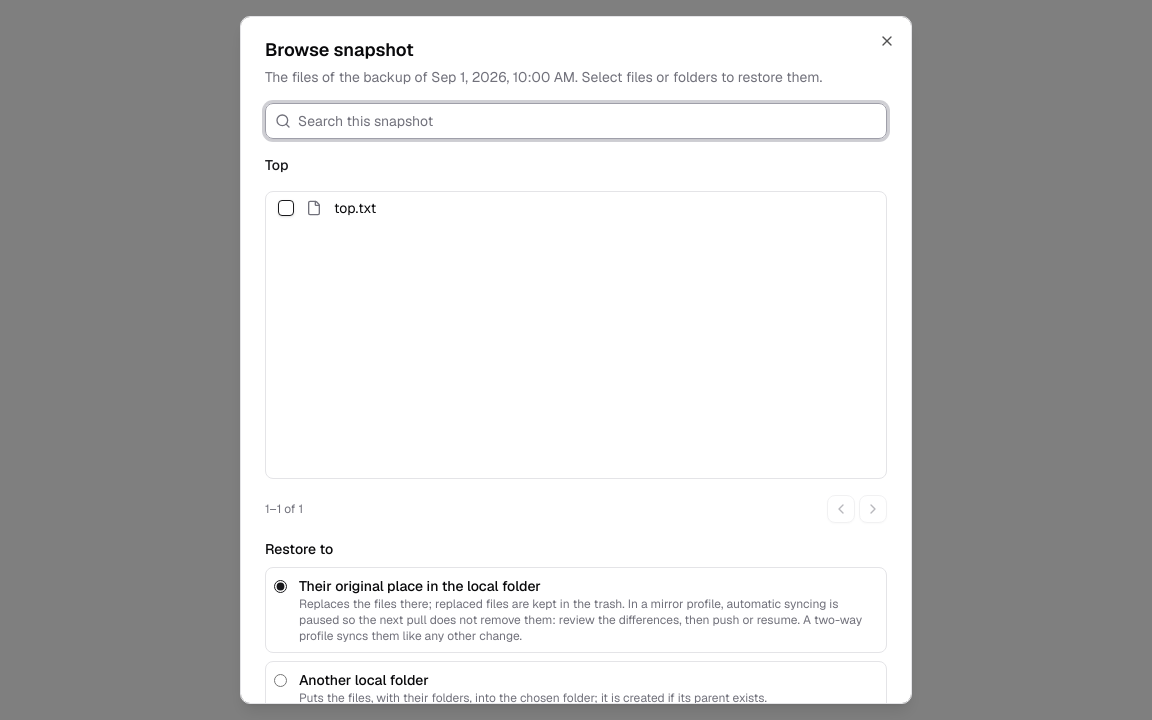
Scenario: SnapshotBrowser states › says when a search matches nothing
Check: the text "top.txt" is shown, box top-left (334, 199), bottom-right (376, 217)
Step 1. Type "nothing" into the search field labelled "Search this snapshot" → coordinates (576, 121), box top-left (265, 103), bottom-right (887, 139)
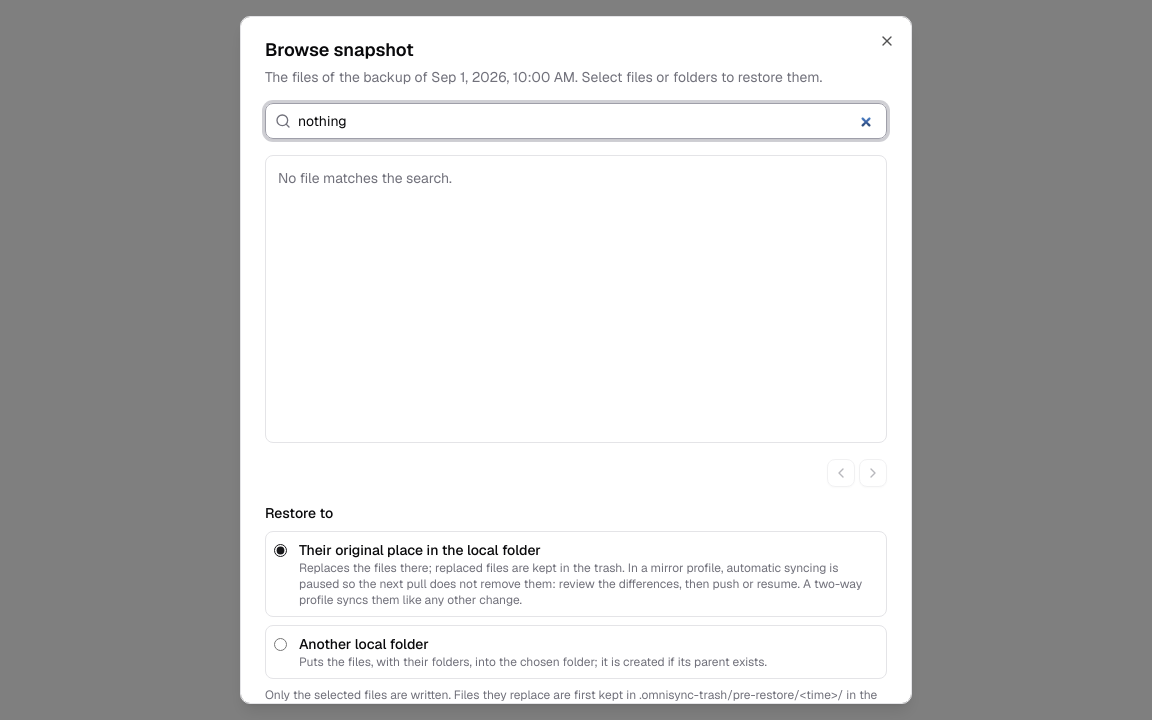
Check: the text "No file matches the search." is shown, box top-left (278, 169), bottom-right (452, 187)
